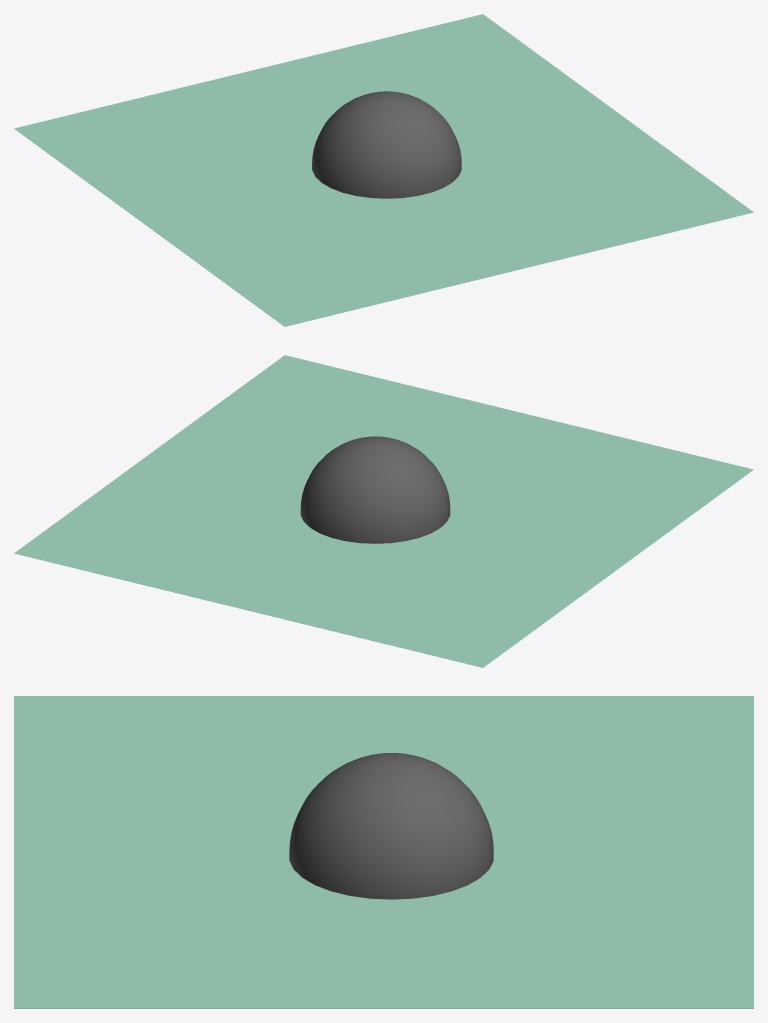
The model's file is placeble_.glb.
The picture shows the model from 3 angles, top to bottom: view 1: azimuth 30°, elevation 25°; view 2: azimuth 150°, elevation 25°; view 3: azimuth 270°, elevation 25°; orthographic projection. The views are drawn at different scales.
Parts seen in each view (by area): view 1: Cube, Sphere; view 2: Cube, Sphere; view 3: Cube, Sphere.
Boxes of the visible parts, left/top/right/bottom form: Cube: left=14, top=14, right=753, bottom=326; Sphere: left=312, top=91, right=461, bottom=198; Cube: left=14, top=355, right=753, bottom=667; Sphere: left=300, top=436, right=450, bottom=543; Cube: left=14, top=696, right=753, bottom=1008; Sphere: left=289, top=753, right=493, bottom=899.
Bounding box in the file's own units: 18 × 5 × 18.
